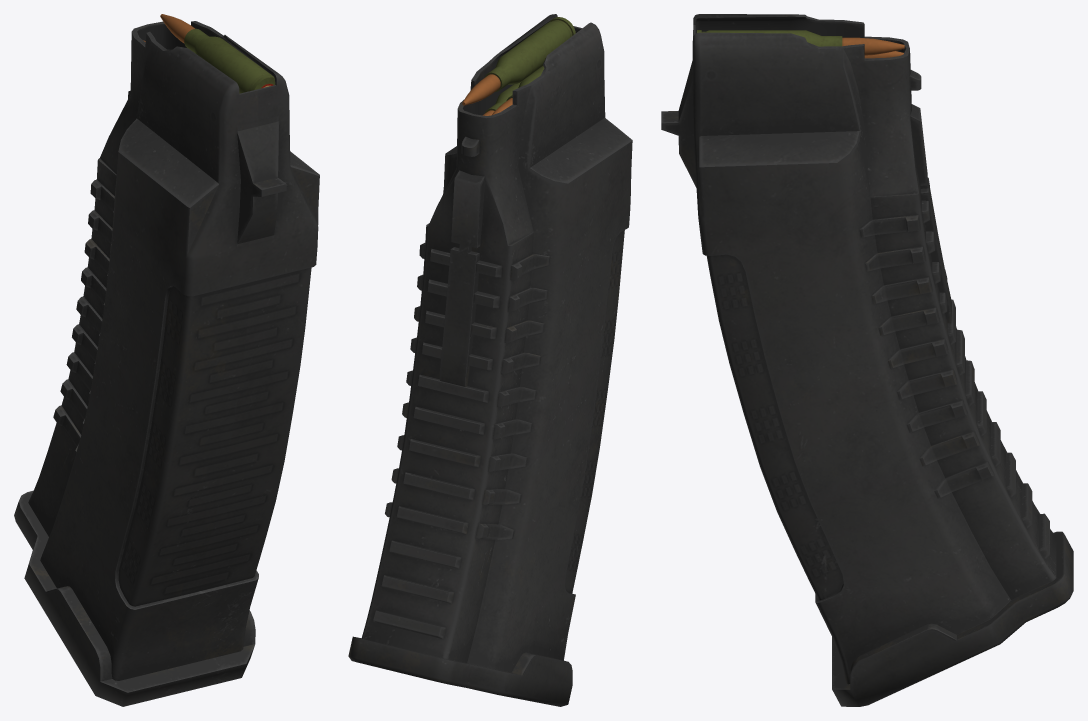
Rendered from 60_rounds_ak_magazine.glb.
The picture shows the model from 3 angles, left to right: view 1: azimuth 30°, elevation 25°; view 2: azimuth 150°, elevation 25°; view 3: azimuth 270°, elevation 25°; orthographic projection. The views are drawn at different scales.
Parts seen in each view (by area): view 1: Plane; view 2: Plane; view 3: Plane.
Part boxes in pixels (x1=…): Plane: x1=14, y1=14, x2=319, y2=706; Plane: x1=348, y1=14, x2=632, y2=706; Plane: x1=661, y1=14, x2=1073, y2=706.
Bounding box in the file's own units: 0.5372 × 2.21 × 1.26.
1 material, 1 textured.
